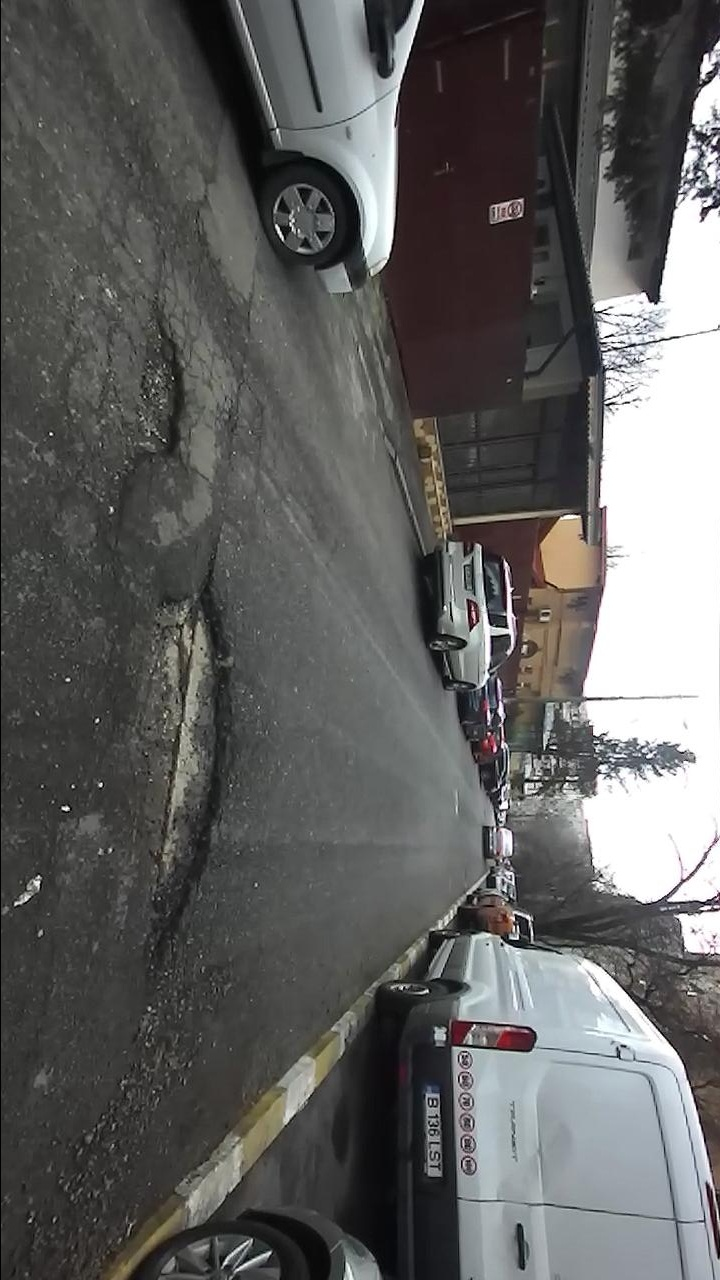pothole: (113, 559, 242, 1004), (108, 295, 194, 491)
